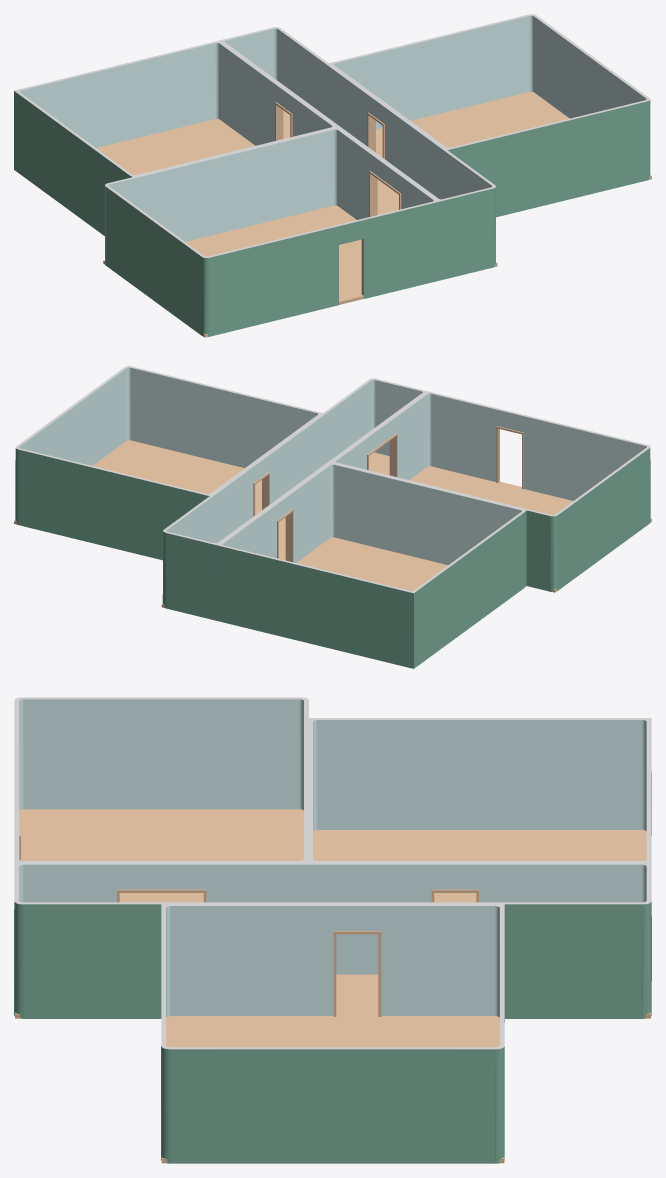
The model's file is first_floor.fbx.
The picture shows the model from 3 angles, top to bottom: view 1: azimuth 30°, elevation 25°; view 2: azimuth 150°, elevation 25°; view 3: azimuth 270°, elevation 25°; orthographic projection. The views are drawn at different scales.
Parts seen in each view (by area): view 1: Wall.015, Wall.001, Wall.014, Wall.003, Wall.018, Wall.019, Wall.028, Wall.029, Wall.004, FullCorner.004, Corner.006, WallDoorway.001 (+51 smaller); view 2: Wall.029, Wall.028, Wall.018, Wall.019, Wall.024, Wall.014, Wall.015, Wall.001, Wall.025, Wall.034, FullCorner.003, Corner.011 (+46 smaller); view 3: Wall.017, Wall.008, Wall.005, Wall.026, Wall.022, Wall.012, Wall.016, Wall.031, Wall.021, WallDoorway.004, Corner.001, Corner.005 (+39 smaller).
Part boxes in pixels (box(x1,y1,x2,y2)): Wall.015: box(504, 120, 564, 214); Wall.001: box(262, 229, 321, 323); Wall.014: box(563, 106, 622, 200); Wall.003: box(221, 141, 280, 232); Wall.018: box(446, 20, 505, 111); Wall.019: box(387, 35, 447, 120); Wall.028: box(132, 48, 189, 138); Wall.029: box(73, 62, 132, 147); Wall.004: box(162, 156, 221, 241); FullCorner.004: box(186, 244, 236, 336); Corner.006: box(503, 14, 550, 102); WallDoorway.001: box(321, 215, 380, 309); Wall.029: box(301, 565, 358, 654); Wall.028: box(245, 551, 302, 641); Wall.018: box(42, 454, 98, 544); Wall.019: box(98, 467, 154, 557); Wall.024: box(357, 469, 414, 556); Wall.014: box(153, 372, 210, 459); Wall.015: box(209, 386, 266, 467); Wall.001: box(538, 418, 595, 500); Wall.025: box(413, 483, 470, 565); Wall.034: box(427, 391, 483, 478); FullCorner.003: box(525, 504, 571, 591); Corner.011: box(383, 580, 431, 667); Wall.017: box(308, 1047, 406, 1163); Wall.008: box(504, 902, 602, 1018); Wall.005: box(112, 697, 210, 809); Wall.026: box(455, 718, 553, 829); Wall.022: box(357, 718, 455, 829); Wall.012: box(210, 904, 308, 1015); Wall.016: box(210, 1047, 308, 1163); Wall.031: box(553, 718, 648, 829); Wall.021: box(406, 904, 504, 1015); WallDoorway.004: box(308, 904, 406, 1016); Corner.001: box(14, 881, 68, 1018); Corner.005: box(161, 1026, 214, 1163).
Bounding box in the file's own units: 1703 × 258 × 1303.
